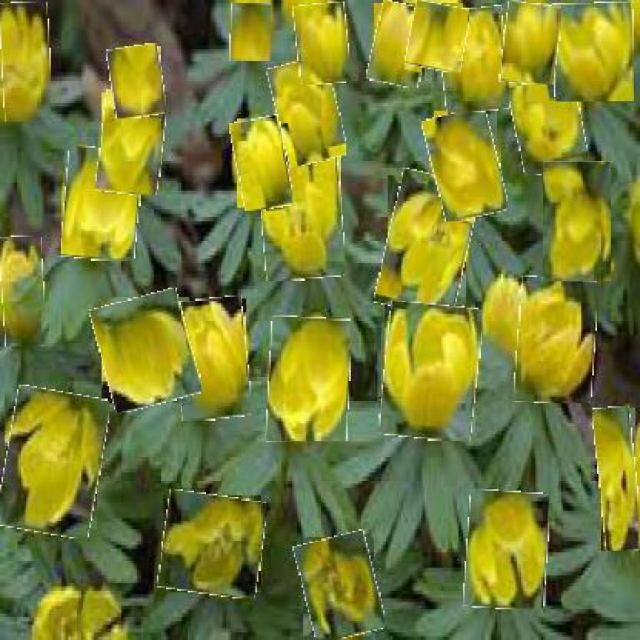Flower: (0, 388, 105, 539), (381, 172, 475, 316), (382, 303, 480, 440), (95, 293, 197, 410), (160, 492, 265, 597), (259, 151, 344, 280), (516, 277, 598, 405), (268, 316, 351, 442), (465, 491, 550, 611), (174, 297, 251, 420), (62, 147, 141, 261), (297, 533, 381, 639), (509, 62, 586, 175), (544, 160, 615, 282), (428, 108, 505, 220), (553, 3, 635, 103), (272, 59, 343, 166), (440, 6, 509, 112), (100, 91, 166, 195), (596, 406, 639, 554), (0, 3, 51, 123), (233, 116, 290, 212), (370, 2, 430, 86), (0, 236, 45, 347), (501, 3, 559, 85), (295, 3, 350, 85), (407, 2, 468, 71), (108, 45, 164, 119), (230, 3, 273, 62)
